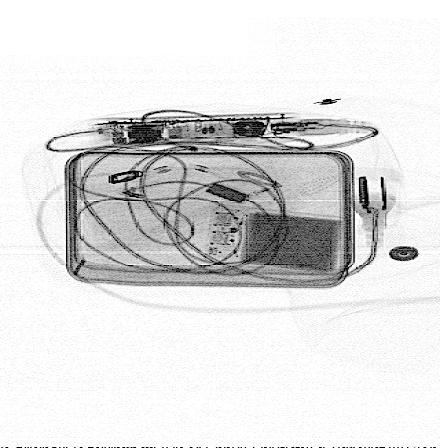Powerbank: (203, 204, 344, 273)
